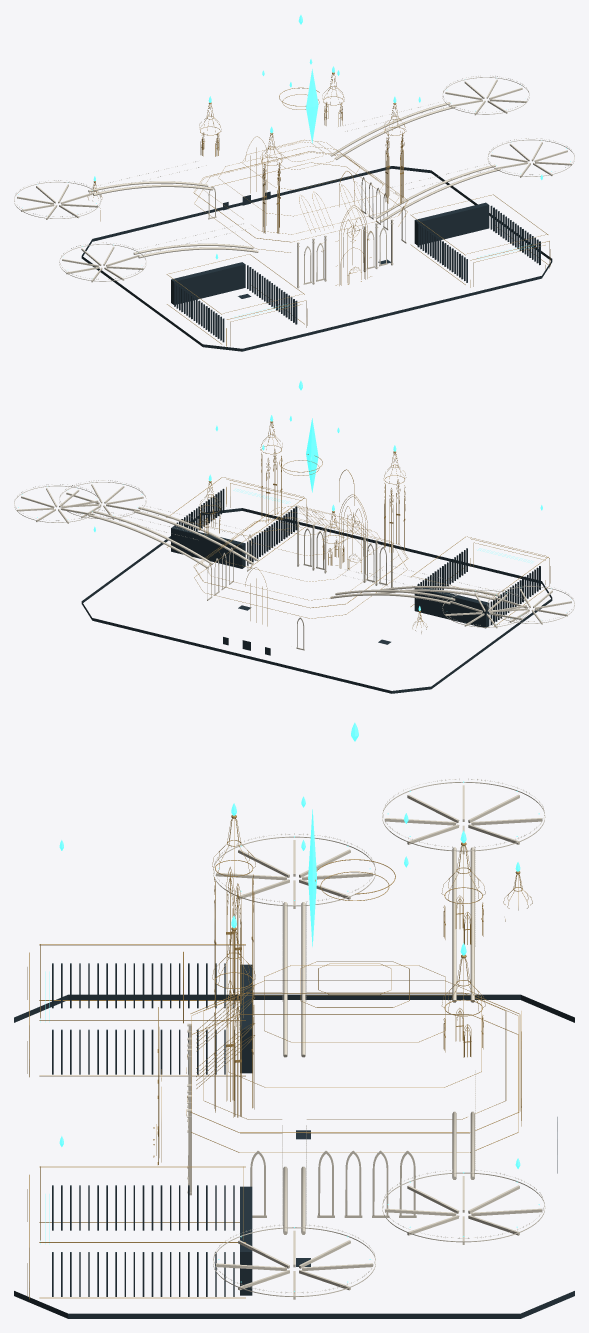
File: Spaceport-02.glb
3 renders of one model, top to bottom at view 1: azimuth 30°, elevation 25°; view 2: azimuth 150°, elevation 25°; view 3: azimuth 270°, elevation 25°, orthographic. The views are drawn at different scales.
Visible parts, largest first — view 1: NSP01.Native.2.3.Dark, NSP01.Native.2.1.Ivory, NSP01.Native.2.0.Gold, NSP01.Native.2.2.Crystal; view 2: NSP01.Native.2.3.Dark, NSP01.Native.2.1.Ivory, NSP01.Native.2.0.Gold, NSP01.Native.2.2.Crystal; view 3: NSP01.Native.2.1.Ivory, NSP01.Native.2.3.Dark, NSP01.Native.2.0.Gold, NSP01.Native.2.2.Crystal.
Boxes of the visible parts, left/top/right/bottom form: NSP01.Native.2.3.Dark: left=81, top=166, right=552, bottom=351; NSP01.Native.2.1.Ivory: left=14, top=75, right=574, bottom=288; NSP01.Native.2.0.Gold: left=87, top=72, right=550, bottom=347; NSP01.Native.2.2.Crystal: left=18, top=15, right=570, bottom=318; NSP01.Native.2.3.Dark: left=81, top=488, right=552, bottom=693; NSP01.Native.2.1.Ivory: left=14, top=480, right=574, bottom=650; NSP01.Native.2.0.Gold: left=167, top=421, right=550, bottom=633; NSP01.Native.2.2.Crystal: left=18, top=380, right=570, bottom=612; NSP01.Native.2.1.Ivory: left=187, top=778, right=545, bottom=1299; NSP01.Native.2.3.Dark: left=14, top=963, right=574, bottom=1318; NSP01.Native.2.0.Gold: left=27, top=815, right=532, bottom=1299; NSP01.Native.2.2.Crystal: left=40, top=722, right=539, bottom=1291.
Bounding box in the file's own units: 720 × 348 × 371.
